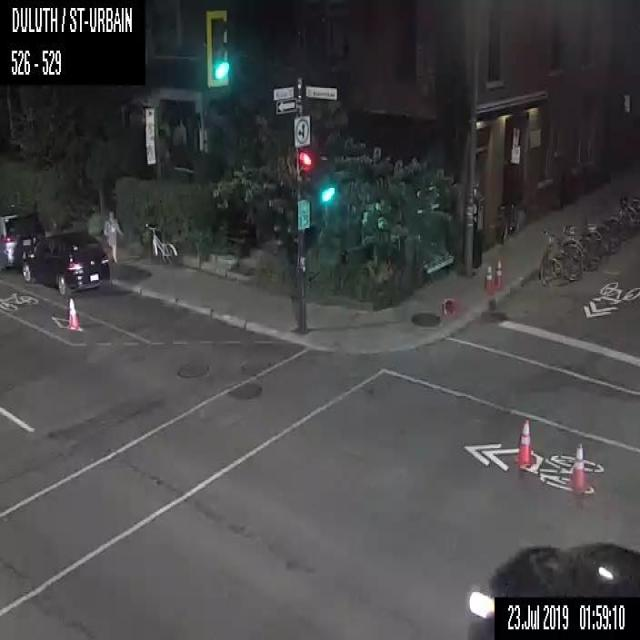construction: (514, 416, 531, 468), (570, 443, 585, 493), (66, 296, 79, 329), (493, 255, 502, 288), (441, 297, 455, 314), (484, 266, 493, 291)
pedestrian: (101, 211, 123, 261)
vehicle: (464, 538, 639, 638), (493, 594, 639, 638), (21, 230, 110, 297), (0, 208, 45, 272)
